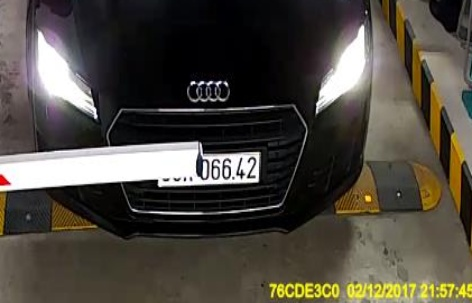plate: (153, 150, 265, 189)
